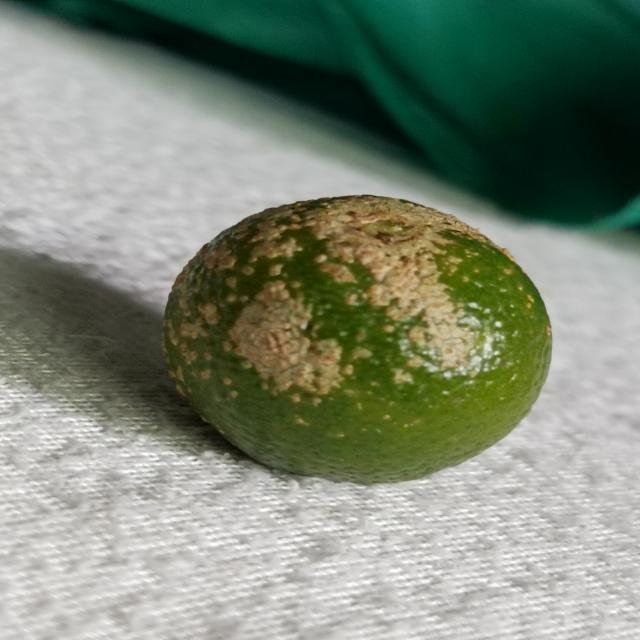scab: (156, 168, 560, 487)
